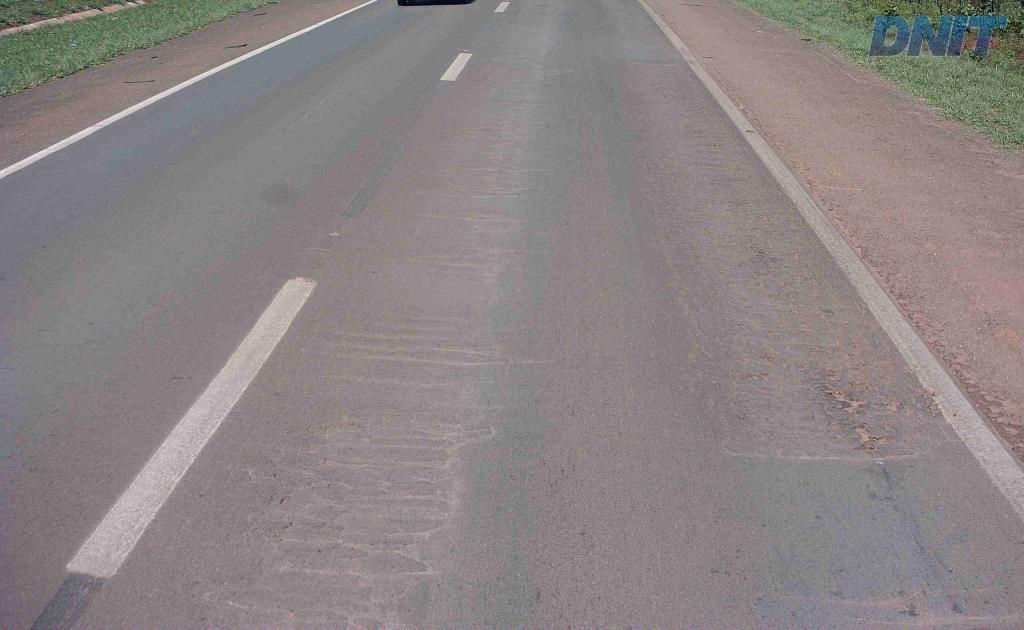pothole: (808, 375, 873, 415), (847, 420, 898, 447), (878, 393, 909, 416)
